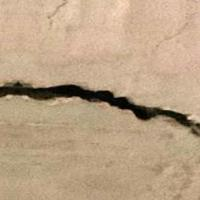crack: (0, 57, 199, 164)
